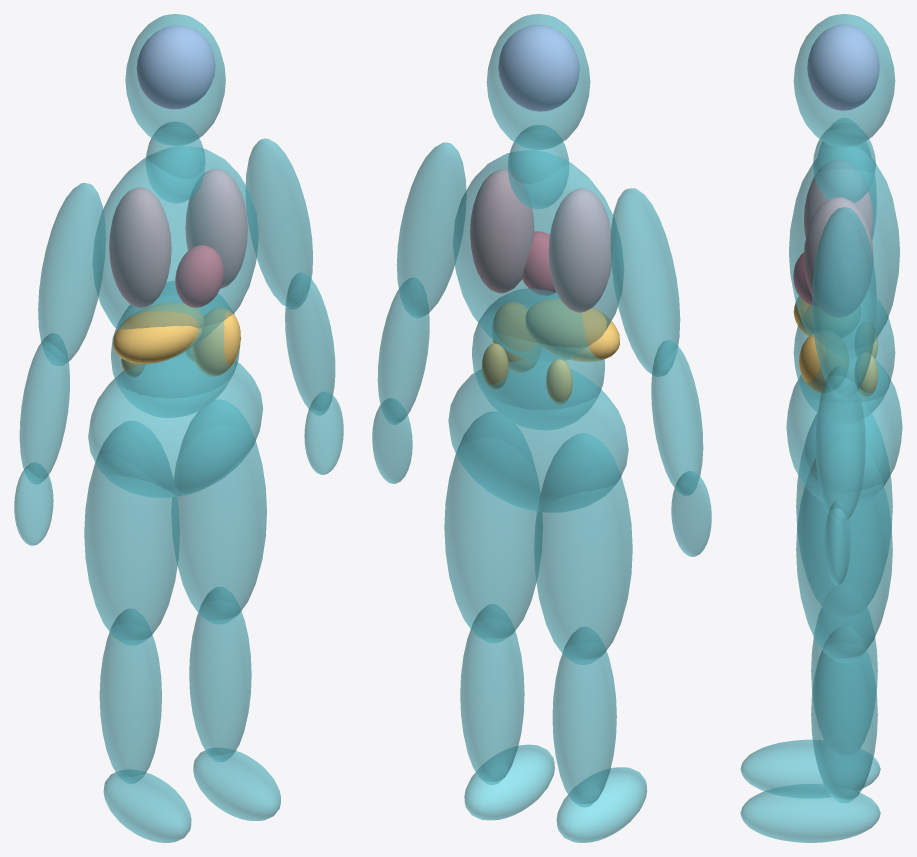
The model's file is female.glb.
3 renders of one model, left to right at view 1: azimuth 30°, elevation 25°; view 2: azimuth 150°, elevation 25°; view 3: azimuth 270°, elevation 25°, orthographic. The views are drawn at different scales.
Visible parts, largest first — view 1: reference.thorax, reference.pelvis, reference.right.thigh, reference.left.thigh, reference.head, reference.right.upper-arm, reference.left.calf, reference.right.calf, reference.abdomen, reference.left.upper-arm, reference.lung.right, reference.right.forearm (+11 smaller); view 2: reference.thorax, reference.pelvis, reference.right.thigh, reference.left.thigh, reference.abdomen, reference.head, reference.right.upper-arm, reference.left.calf, reference.right.calf, reference.left.upper-arm, reference.lung.right, reference.lung.left (+13 smaller); view 3: reference.left.thigh, reference.thorax, reference.head, reference.left.upper-arm, reference.left.calf, reference.right.thigh, reference.pelvis, reference.lung.left, reference.right.calf, reference.left.foot, reference.left.forearm, reference.right.foot (+10 smaller).
Boxes of the visible parts, x1,y1,x2,y2 form: reference.thorax: [93, 146, 258, 347]; reference.pelvis: [88, 348, 262, 497]; reference.right.thigh: [84, 421, 179, 645]; reference.left.thigh: [172, 400, 266, 623]; reference.head: [125, 14, 225, 145]; reference.right.upper-arm: [38, 183, 105, 365]; reference.left.calf: [189, 587, 251, 761]; reference.right.calf: [99, 609, 161, 783]; reference.abdomen: [111, 281, 240, 417]; reference.left.upper-arm: [245, 138, 312, 308]; reference.lung.right: [109, 187, 171, 307]; reference.right.forearm: [19, 333, 69, 484]; reference.thorax: [453, 150, 623, 362]; reference.pelvis: [448, 360, 628, 512]; reference.right.thigh: [534, 433, 632, 664]; reference.left.thigh: [444, 411, 542, 642]; reference.abdomen: [472, 288, 604, 429]; reference.head: [486, 14, 590, 149]; reference.right.upper-arm: [610, 188, 680, 376]; reference.left.calf: [460, 604, 524, 784]; reference.right.calf: [552, 627, 616, 806]; reference.left.upper-arm: [396, 142, 466, 317]; reference.lung.right: [548, 188, 612, 312]; reference.lung.left: [470, 169, 534, 293]; reference.left.thigh: [796, 448, 892, 662]; reference.thorax: [789, 146, 899, 342]; reference.head: [793, 14, 895, 147]; reference.left.upper-arm: [812, 207, 876, 398]; reference.left.calf: [811, 626, 877, 802]; reference.right.thigh: [796, 413, 892, 606]; reference.pelvis: [786, 360, 902, 505]; reference.lung.left: [804, 197, 873, 317]; reference.right.calf: [811, 608, 877, 750]; reference.left.foot: [740, 784, 880, 842]; reference.left.forearm: [815, 366, 865, 522]; reference.right.foot: [740, 739, 880, 797].
Size of the model in its own units: 0.79 by 1.83 by 0.335.
